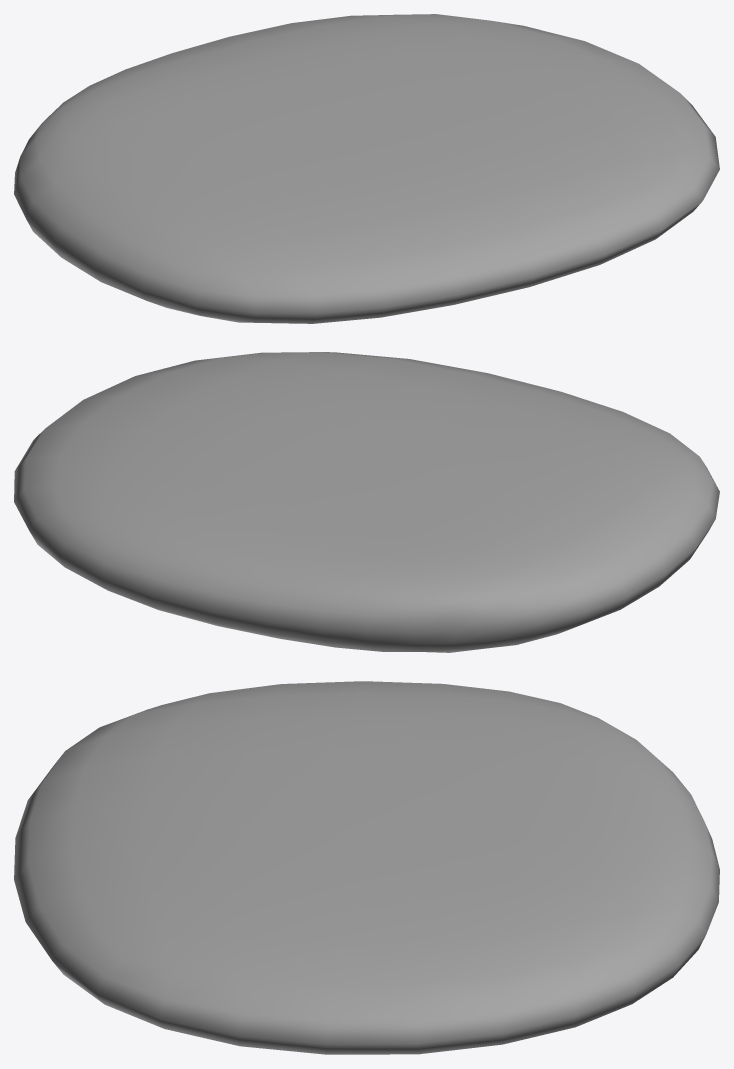
The model's file is Town_7_Stone_1.glb.
3 views of the same model, one above another, from view 1: azimuth 30°, elevation 25°; view 2: azimuth 150°, elevation 25°; view 3: azimuth 270°, elevation 25° (orthographic). The views are drawn at different scales.
Parts seen in each view (by area): view 1: Town_7_Stone_1; view 2: Town_7_Stone_1; view 3: Town_7_Stone_1.
Boxes of the visible parts, x1,y1,x2,y2 form: Town_7_Stone_1: (14,14,719,323); Town_7_Stone_1: (14,352,719,652); Town_7_Stone_1: (14,681,719,1054).
Bounding box in the file's own units: 0.907 × 0.114 × 0.7781.
1 material, 1 textured.
